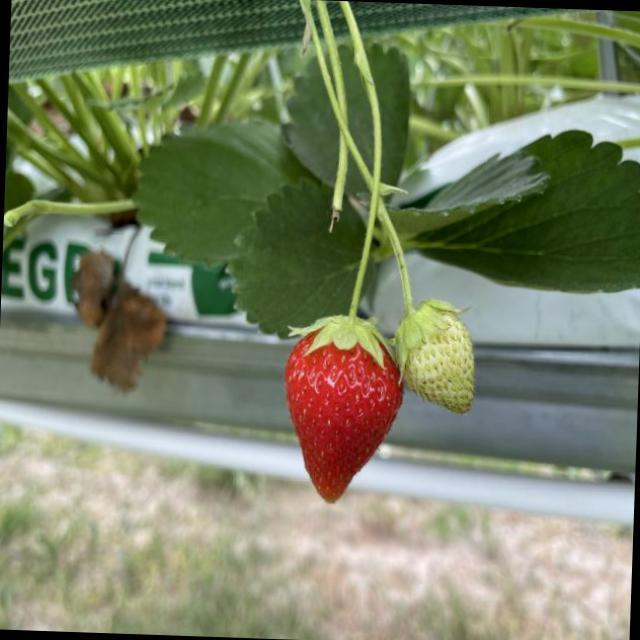stem: (292, 199, 383, 366), (377, 200, 462, 372)
strawberryNR: (404, 323, 472, 411)
strawberryR: (287, 340, 399, 500)
